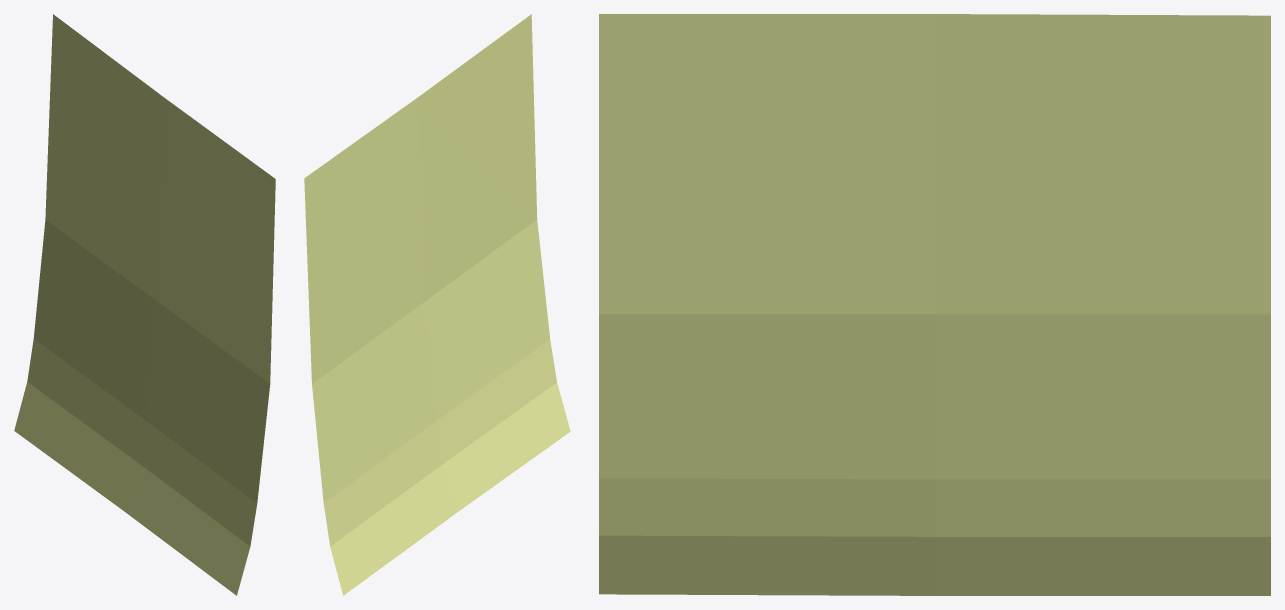
File: GameAsset_Note002_v01.fbx
The picture shows the model from 3 angles, left to right: view 1: azimuth 30°, elevation 25°; view 2: azimuth 150°, elevation 25°; view 3: azimuth 270°, elevation 25°; orthographic projection. The views are drawn at different scales.
Visible parts, largest first — view 1: post-it.002; view 2: post-it.002; view 3: post-it.002.
Part boxes in pixels (x1,y1,x2,y2): post-it.002: [14, 14, 275, 595]; post-it.002: [304, 14, 570, 595]; post-it.002: [599, 14, 1270, 595].
Bounding box in the file's own units: 1.5 × 14.23 × 14.23.
